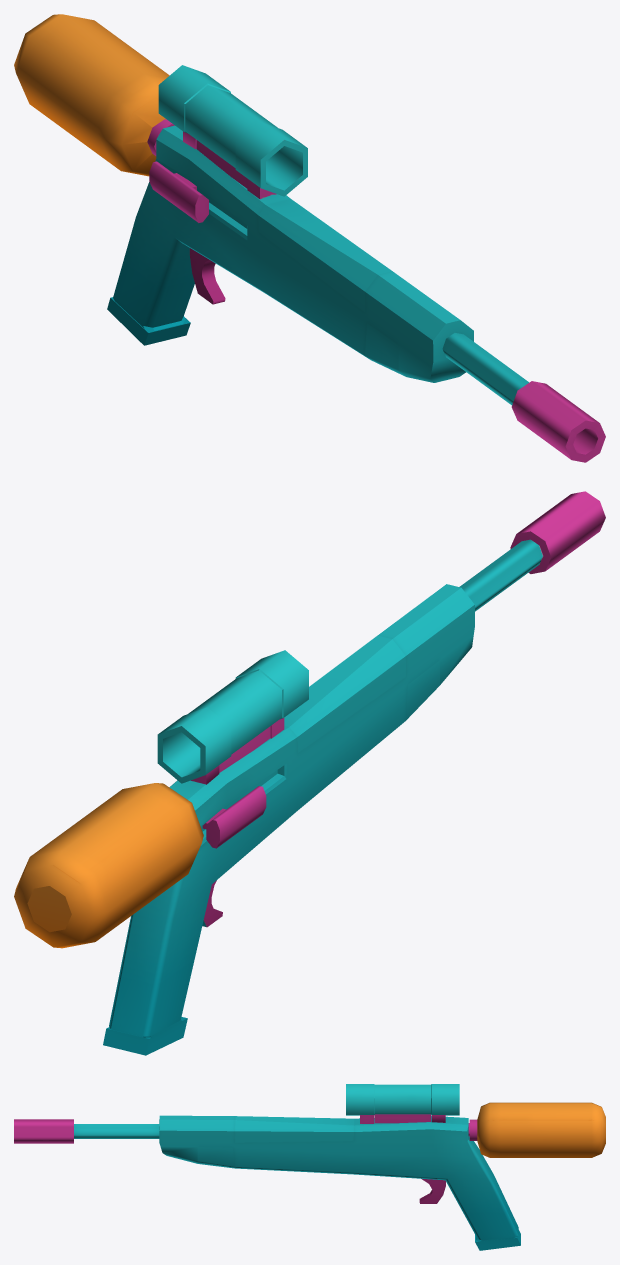
Rendered from rifle_fix_test.glb.
The picture shows the model from 3 angles, top to bottom: view 1: azimuth 30°, elevation 25°; view 2: azimuth 150°, elevation 25°; view 3: azimuth 270°, elevation 25°; orthographic projection. The views are drawn at different scales.
Visible parts, largest first — view 1: Body.002, Barrel, Scope, Muzzle.001, Thing2, Trigger.001; view 2: Body.002, Barrel, Scope, Muzzle.001, Thing2; view 3: Body.002, Barrel, Scope, Muzzle.001, Trigger.001.
Boxes of the visible parts, x1,y1,x2,y2 form: Body.002: [107, 125, 473, 382]; Barrel: [14, 14, 174, 176]; Scope: [158, 65, 307, 199]; Muzzle.001: [442, 333, 605, 462]; Thing2: [149, 161, 208, 222]; Trigger.001: [189, 248, 225, 304]; Body.002: [103, 584, 474, 1055]; Barrel: [14, 783, 203, 948]; Scope: [157, 650, 308, 784]; Muzzle.001: [459, 491, 605, 611]; Thing2: [202, 786, 266, 848]; Body.002: [159, 1115, 520, 1250]; Barrel: [469, 1102, 605, 1157]; Scope: [346, 1084, 459, 1123]; Muzzle.001: [14, 1119, 159, 1143]; Trigger.001: [419, 1178, 445, 1203].
Bounding box in the file's own units: 0.1127 × 0.339 × 1.13.
Materials: 1 (1 with a texture image).
